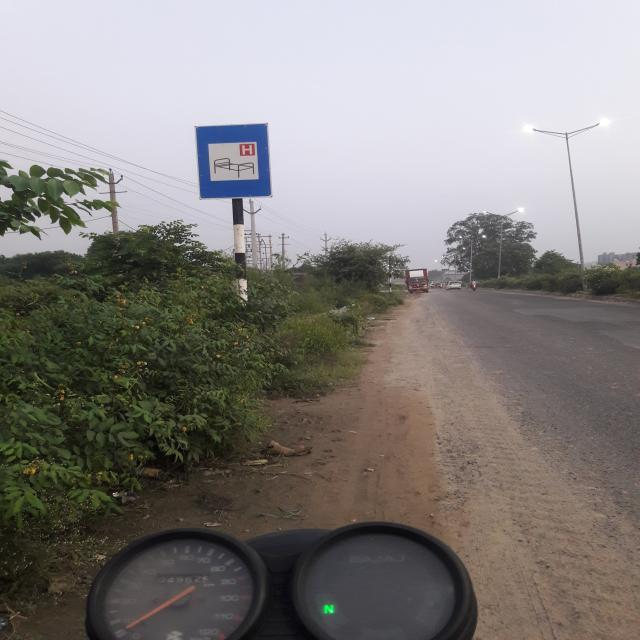hospital ahead: (202, 136, 267, 191)
